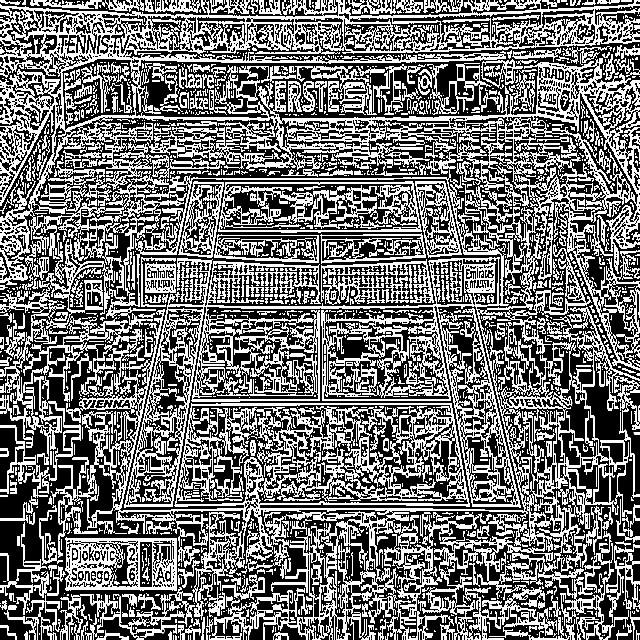left side: (413, 178, 523, 509), (121, 180, 225, 508)
player: (233, 436, 272, 566), (264, 100, 292, 163)
